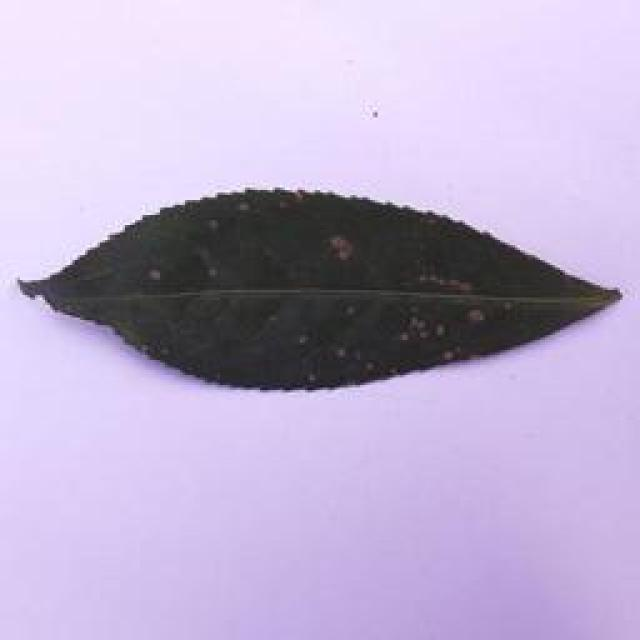Algal Leaf Spot: (18, 179, 624, 396)
